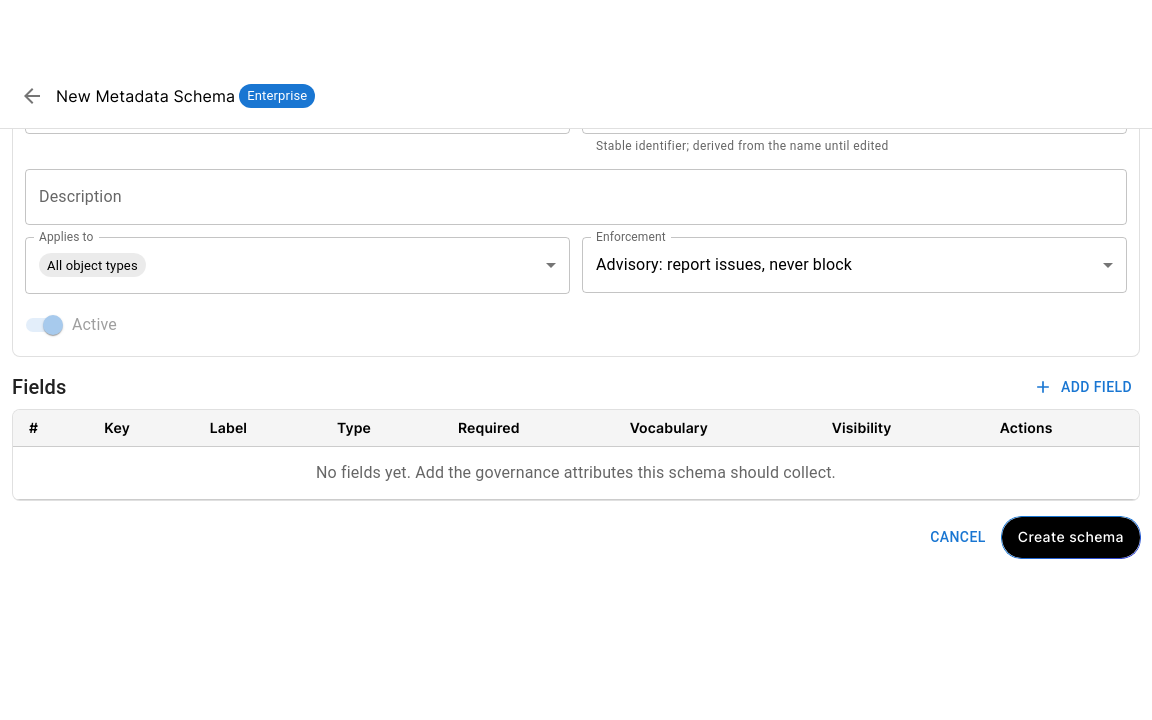
Test case: MetadataSchemaForm interactions › refuses to submit without a name or object type
Expected: the text "New Metadata Schema" is shown, [56,84,235,108]
Click the button "Create schema".
click(1071, 538)  # box [1002,517,1140,558]
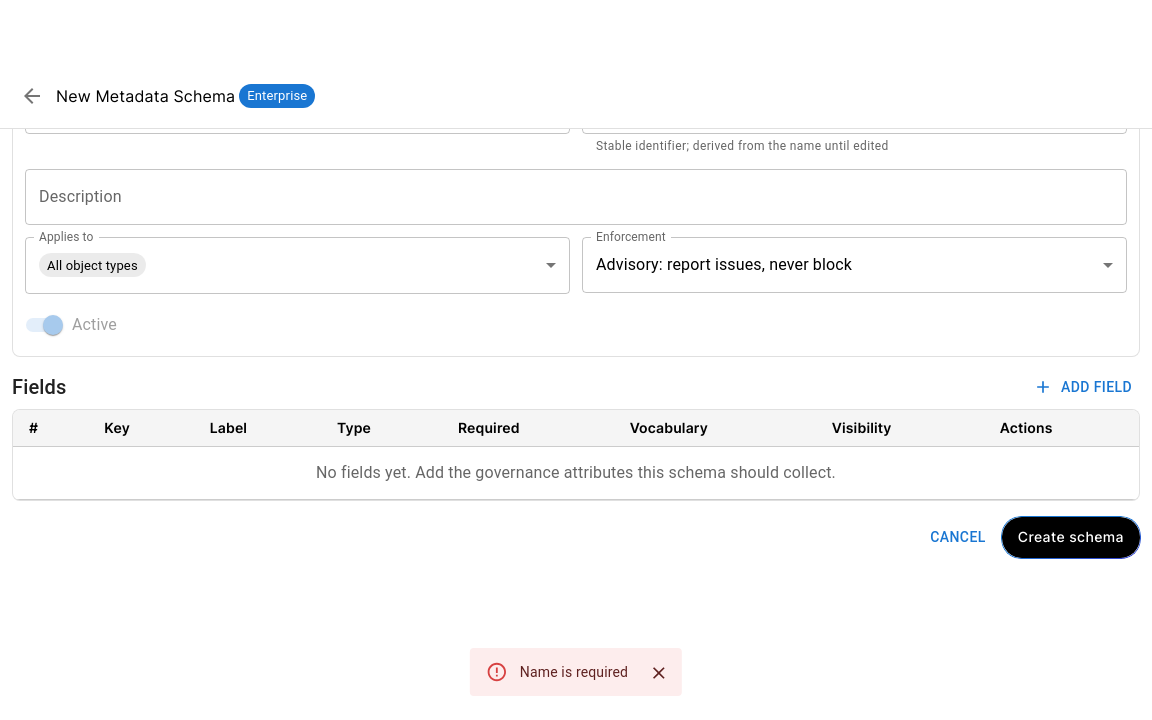
Result: the text "Name is required" is shown at [520,664,628,680]
